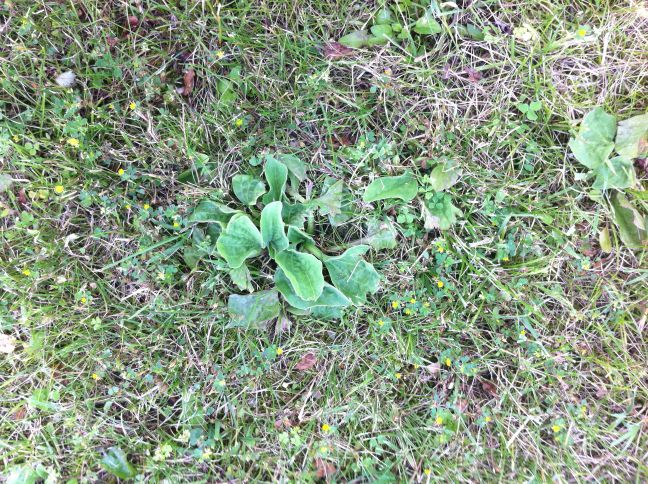weed1: (190, 150, 390, 331), (564, 103, 648, 256)
